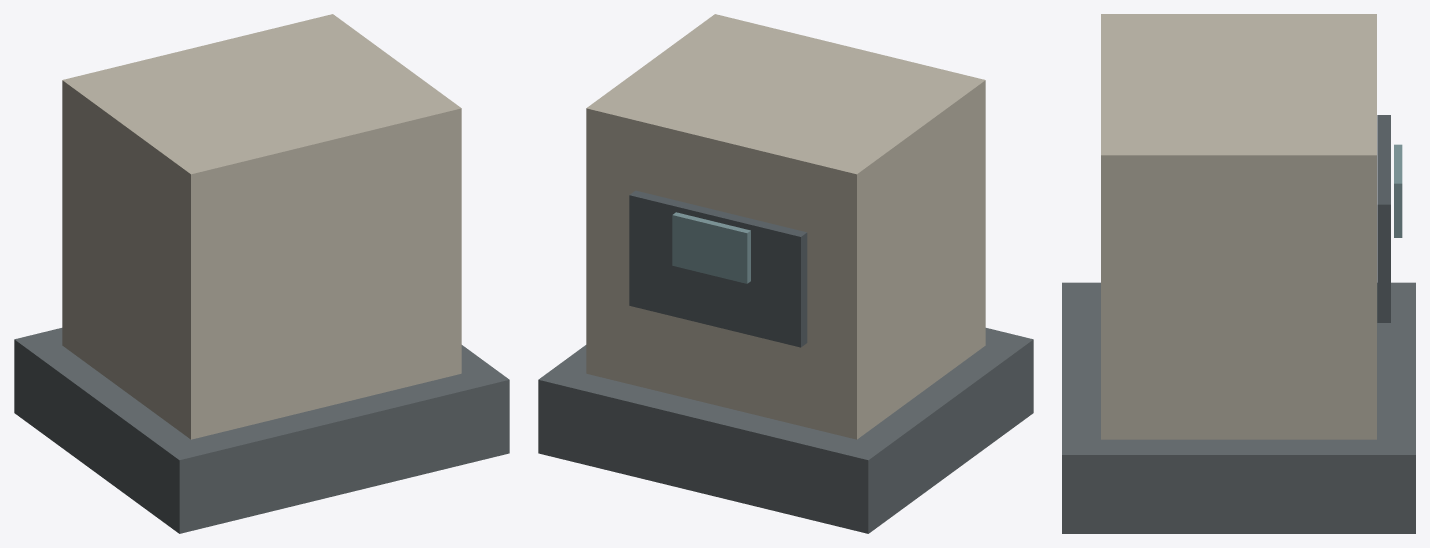
Rendered from iz3_production_kiln_01.glb.
3 views of the same model, side by side, from view 1: azimuth 30°, elevation 25°; view 2: azimuth 150°, elevation 25°; view 3: azimuth 270°, elevation 25° (orthographic). The views are drawn at different scales.
Parts seen in each view (by area): view 1: cabinet, base; view 2: cabinet, base, panel, display; view 3: cabinet, base, panel, display.
Boxes of the visible parts, left/top/right/bottom form: cabinet: left=62, top=14, right=461, bottom=439; base: left=14, top=328, right=509, bottom=533; cabinet: left=586, top=14, right=985, bottom=439; base: left=538, top=328, right=1033, bottom=533; panel: left=629, top=190, right=807, bottom=347; display: left=672, top=212, right=750, bottom=283; cabinet: left=1101, top=14, right=1376, bottom=439; base: left=1062, top=282, right=1415, bottom=533; panel: left=1377, top=115, right=1390, bottom=322; display: left=1394, top=144, right=1402, bottom=237.
Size of the model in its own units: 1.5 by 1.47 by 1.3.
